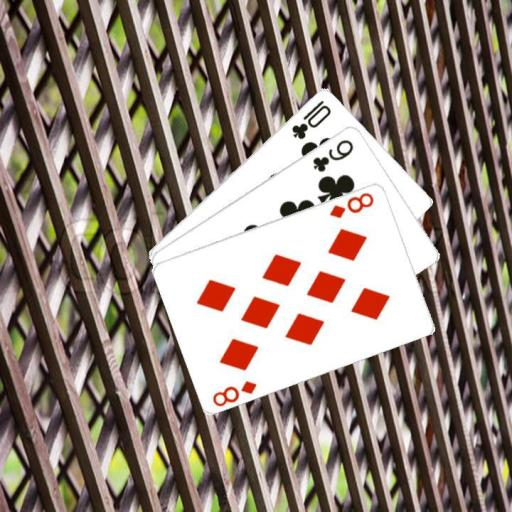10C: (288, 97, 333, 141)
8D: (327, 188, 376, 220), (209, 377, 259, 407)
9C: (309, 136, 355, 173)
